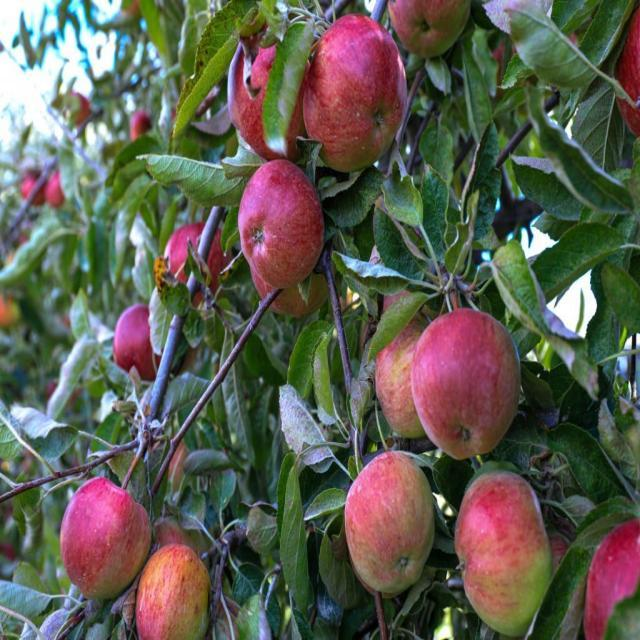Red Apple: (310, 28, 405, 166), (426, 325, 519, 458), (465, 469, 551, 610), (350, 452, 437, 585), (65, 473, 148, 589), (233, 37, 309, 140), (247, 164, 319, 271), (245, 246, 320, 319), (381, 337, 437, 433), (144, 550, 201, 640), (595, 518, 640, 619), (393, 1, 455, 61), (119, 301, 162, 367), (176, 223, 223, 274), (620, 22, 640, 115), (132, 111, 150, 136), (24, 179, 42, 202), (48, 175, 62, 200)
